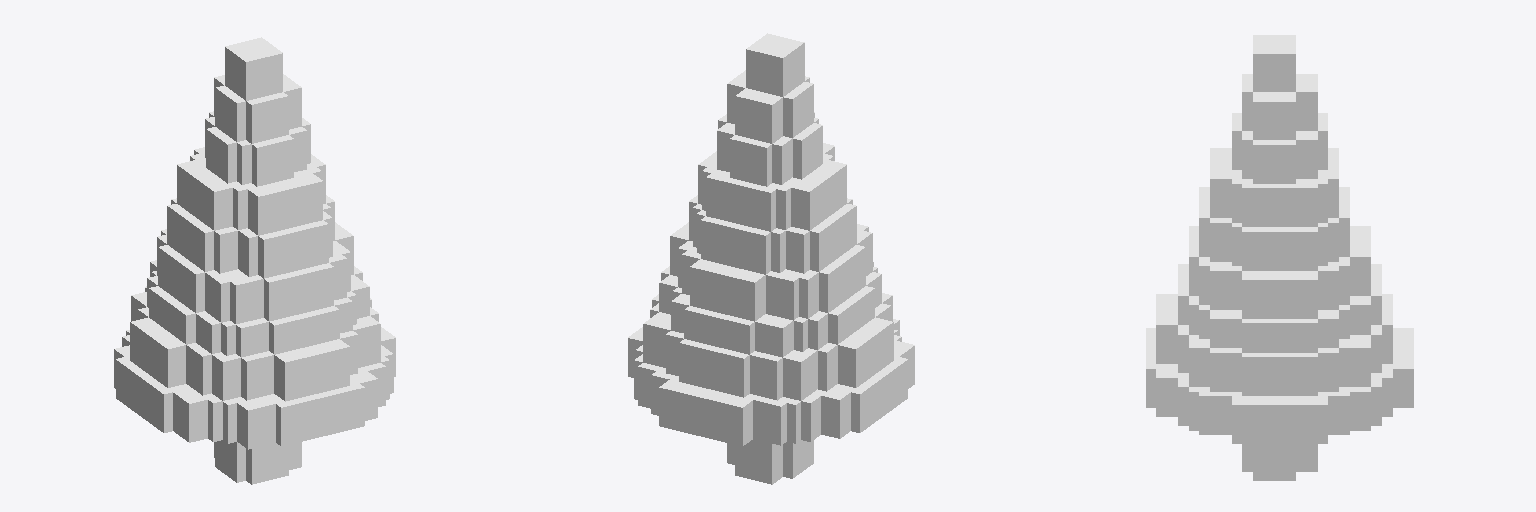
Rendered from TreeCone.obj.
The picture shows the model from 3 angles: view 1: azimuth 30°, elevation 25°; view 2: azimuth 150°, elevation 25°; view 3: azimuth 270°, elevation 25°; orthographic projection.
Parts seen in each view (by area): view 1: object 1; view 2: object 1; view 3: object 1.
Boxes of the visible parts, x1=… form: object 1: x1=114, y1=37, x2=395, y2=484; object 1: x1=628, y1=33, x2=914, y2=484; object 1: x1=1146, y1=35, x2=1413, y2=480.
Size of the model in its own units: 2.5 by 4.3 by 2.5.